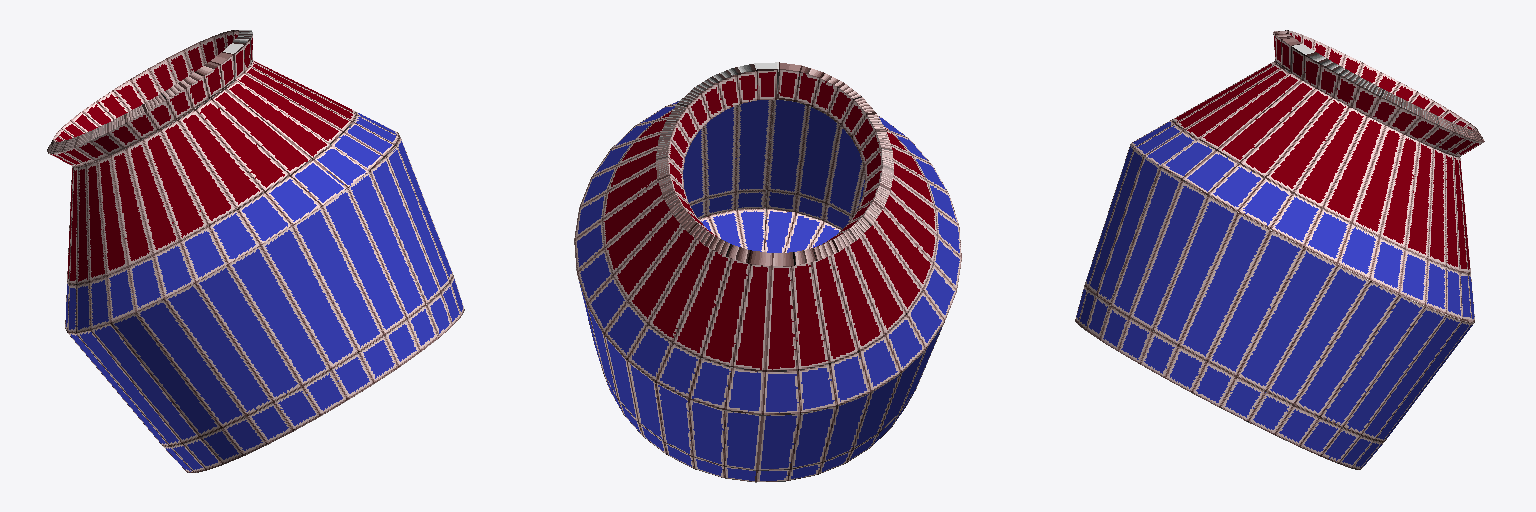
The picture shows the model from 3 angles: view 1: azimuth 30°, elevation 25°; view 2: azimuth 150°, elevation 25°; view 3: azimuth 270°, elevation 25°; orthographic projection.
Parts seen in each view (by area): view 1: Circle; view 2: Circle; view 3: Circle.
Boxes of the visible parts, x1=… form: Circle: x1=47, y1=30, x2=464, y2=472; Circle: x1=574, y1=62, x2=961, y2=482; Circle: x1=1075, y1=30, x2=1484, y2=469.
Size of the model in its own units: 0.2955 by 0.3329 by 0.3066.
Materials: 1 (1 with a texture image).